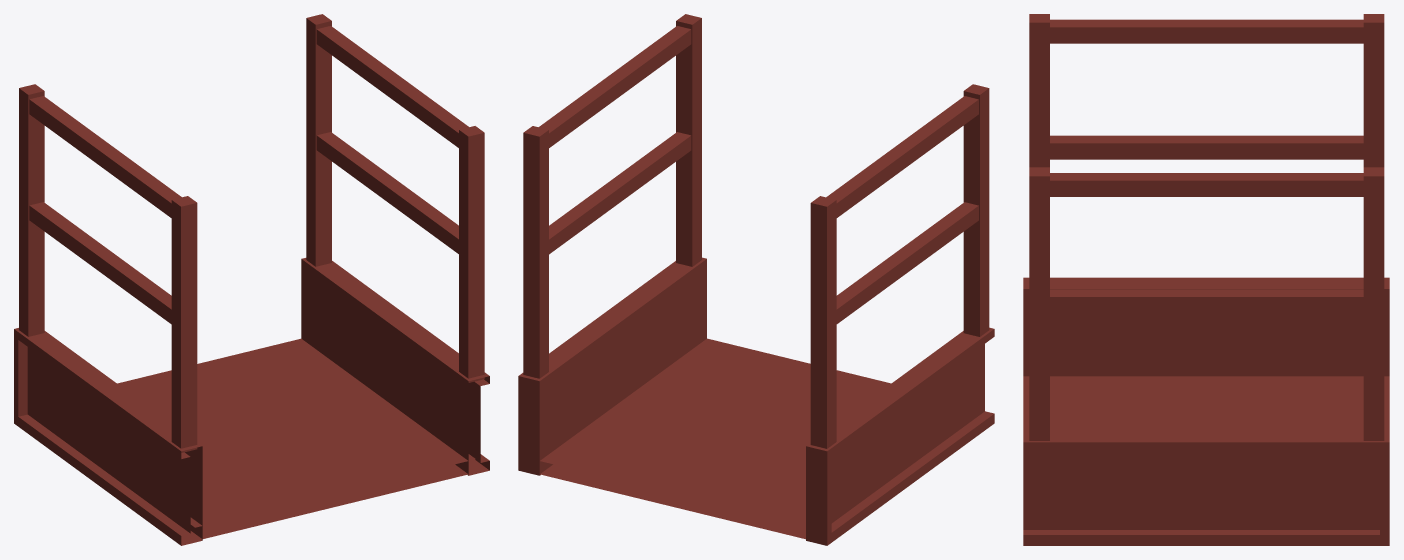
The model's file is Walkway New 5.fbx.
3 renders of one model, left to right at view 1: azimuth 30°, elevation 25°; view 2: azimuth 150°, elevation 25°; view 3: azimuth 270°, elevation 25°, orthographic. The views are drawn at different scales.
Parts seen in each view (by area): view 1: polySurface234; view 2: polySurface234; view 3: polySurface234.
Part boxes in pixels (x1,y1,x2,y2): polySurface234: [14, 14, 489, 545]; polySurface234: [518, 14, 994, 545]; polySurface234: [1023, 14, 1389, 545].
Bounding box in the file's own units: 129 × 134 × 121.
